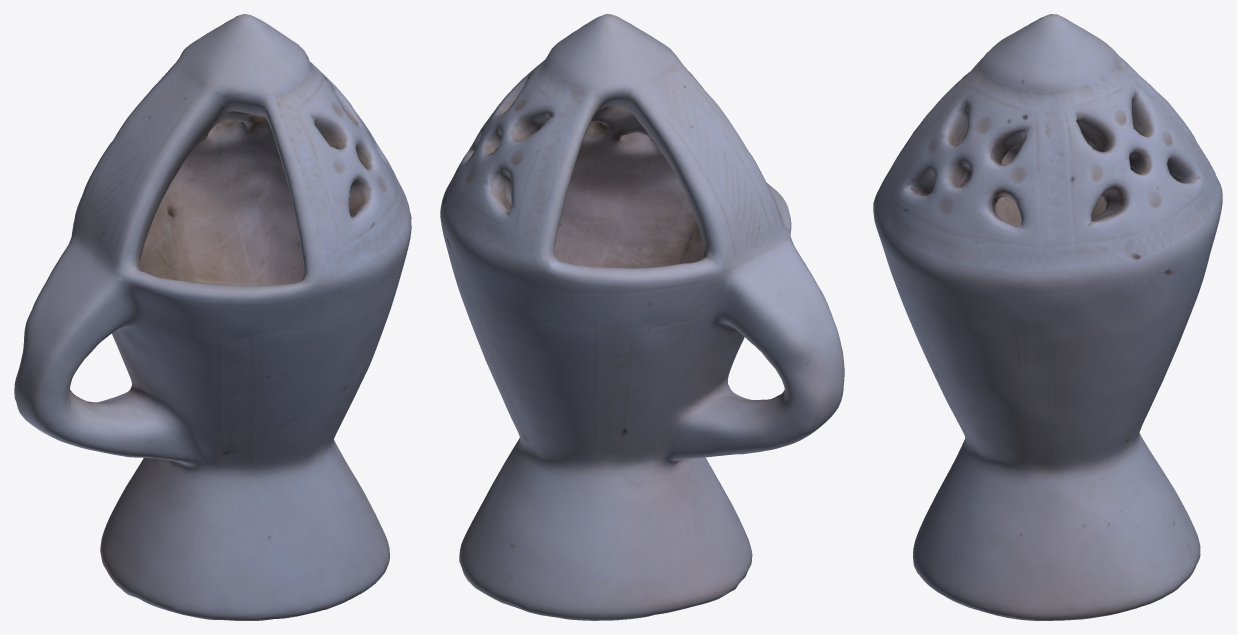
Rendered from incense-burner.gltf.
The picture shows the model from 3 angles, left to right: view 1: azimuth 30°, elevation 25°; view 2: azimuth 150°, elevation 25°; view 3: azimuth 270°, elevation 25°; orthographic projection.
Parts seen in each view (by area): view 1: low; view 2: low; view 3: low.
Boxes of the visible parts, box(x1,y1,x2,y2) form: low: box(14, 14, 411, 620); low: box(440, 14, 844, 620); low: box(873, 14, 1222, 620).
Size of the model in its own units: 13.04 by 18.61 by 10.75.
Materials: 1 (1 with a texture image).
